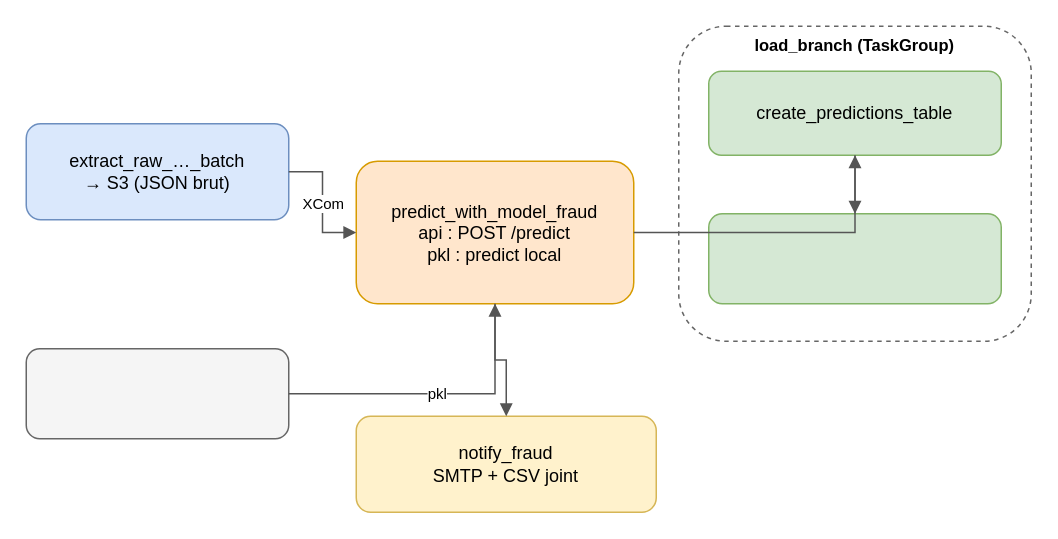
The diagram is 1058 pixels wide and 539 high, and some of its shapes have lost their labels. The shapes that lost their labels are listed below. From the top down, each one's box as (x1, y1, x2, y2) in pixels, then its label:
(707, 212, 1001, 304): S3ToPostgresOperator (opérateur custom)
(25, 347, 289, 439): load_model (pkl only) MLflow → pickle
